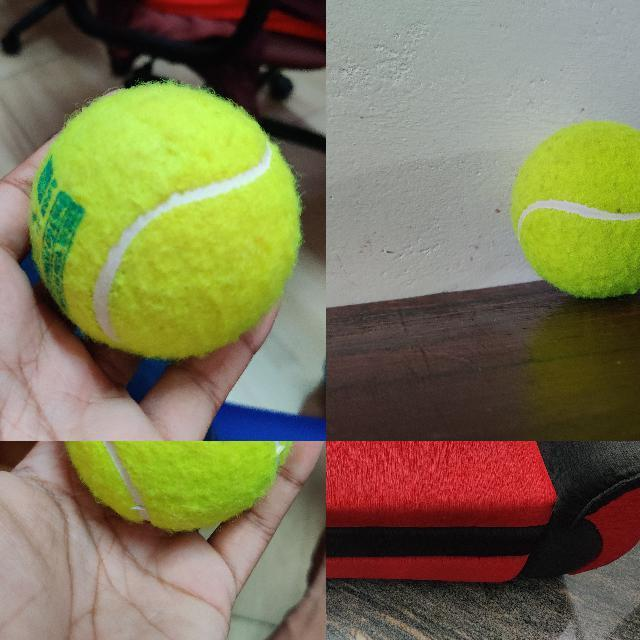tennis-ball: (30, 84, 300, 356), (510, 120, 639, 299), (60, 441, 299, 533)
